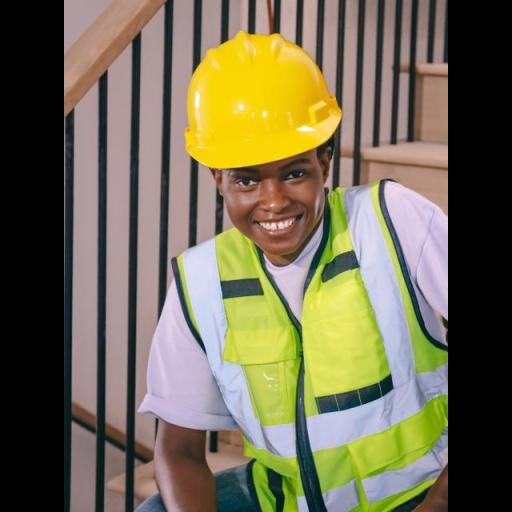Person: (96, 0, 478, 512)
helmet: (173, 25, 346, 174)
vest: (156, 196, 474, 506)
